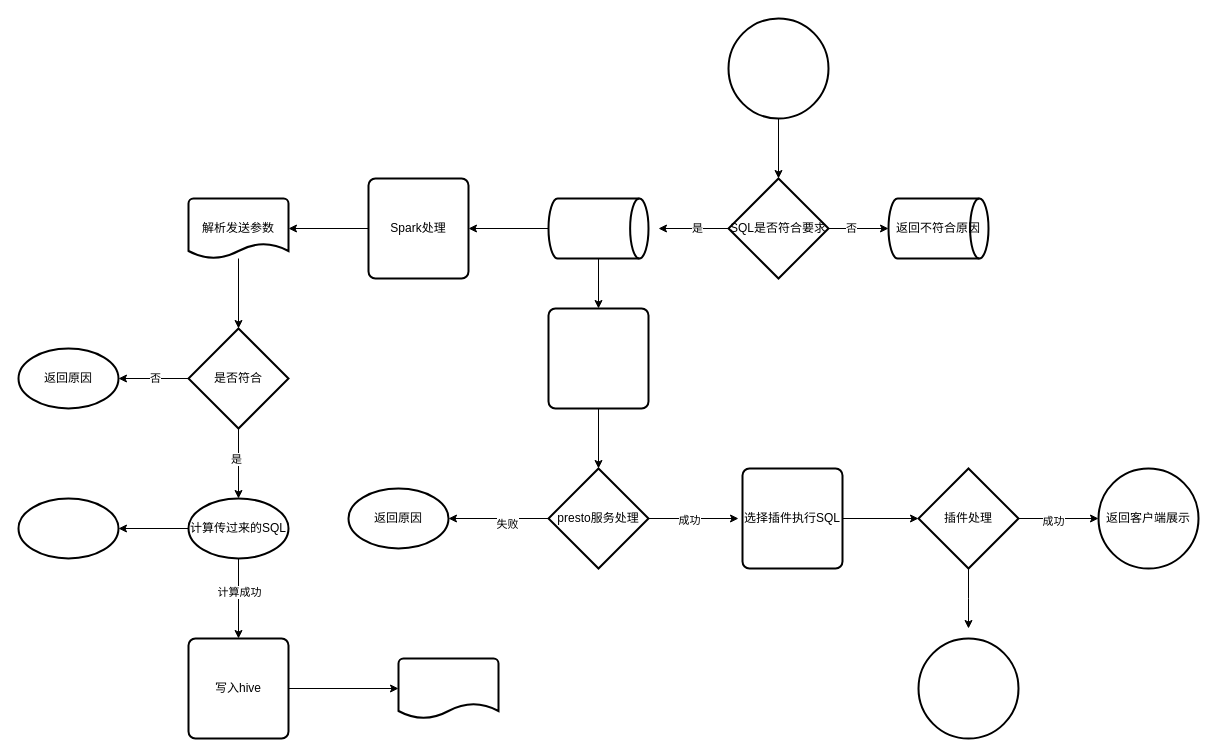
This 1216x756 diagram has some shape labels left out. Here are the shapes that lost their labels. From the top down, the box of each, then its label:
(727, 17, 829, 119): 输入SQL
(547, 197, 649, 259): 发送SQL
(547, 307, 649, 409): Presto处理
(17, 497, 119, 559): 失败原因返回
(397, 657, 499, 719): 返回数据
(917, 637, 1019, 739): 失败返回原因
